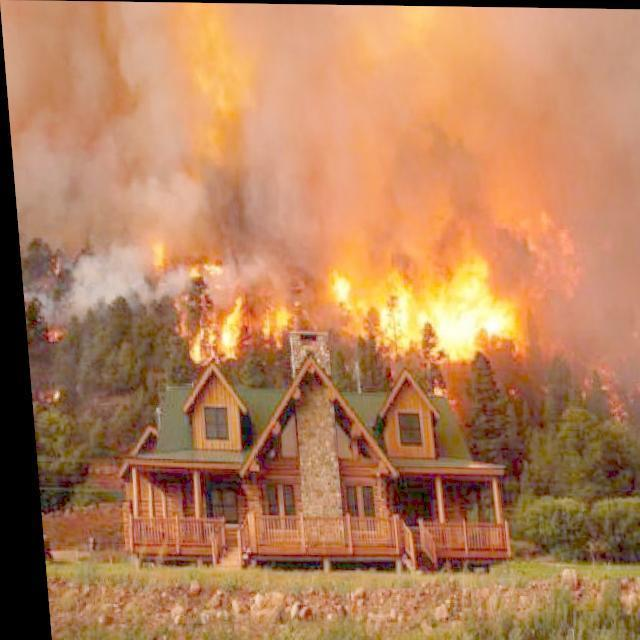Fire: (154, 222, 515, 371)
Smoke: (0, 0, 640, 402)
